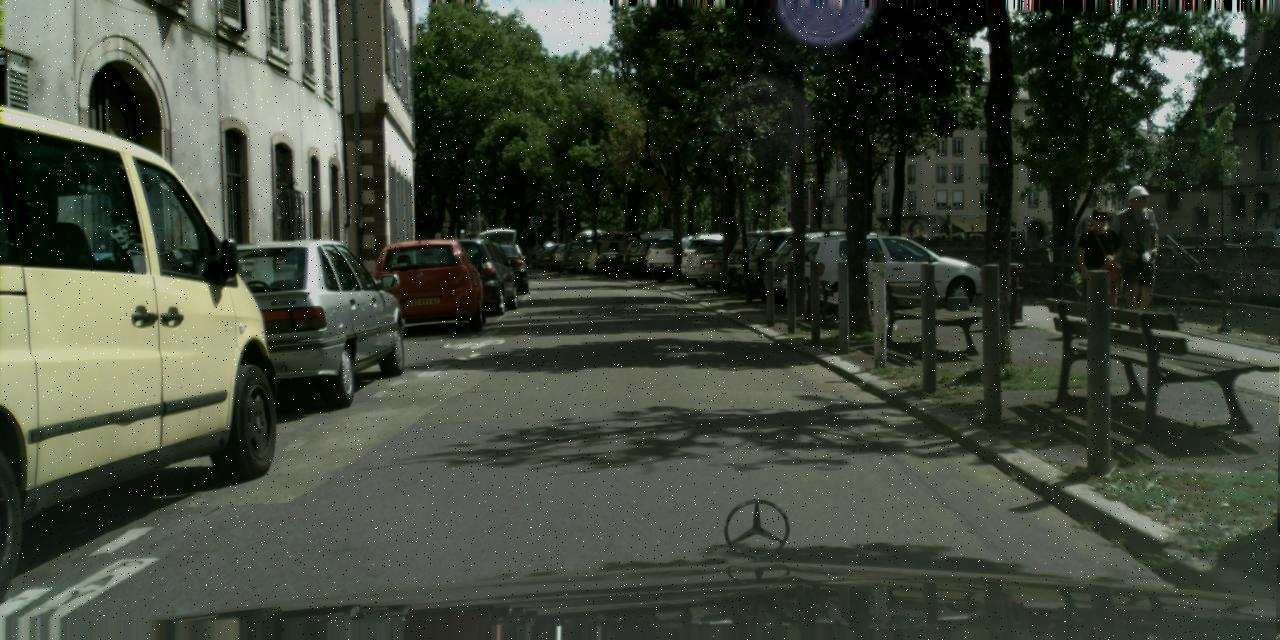ped: (1108, 184, 1168, 330), (1077, 207, 1127, 330), (483, 241, 509, 306)
